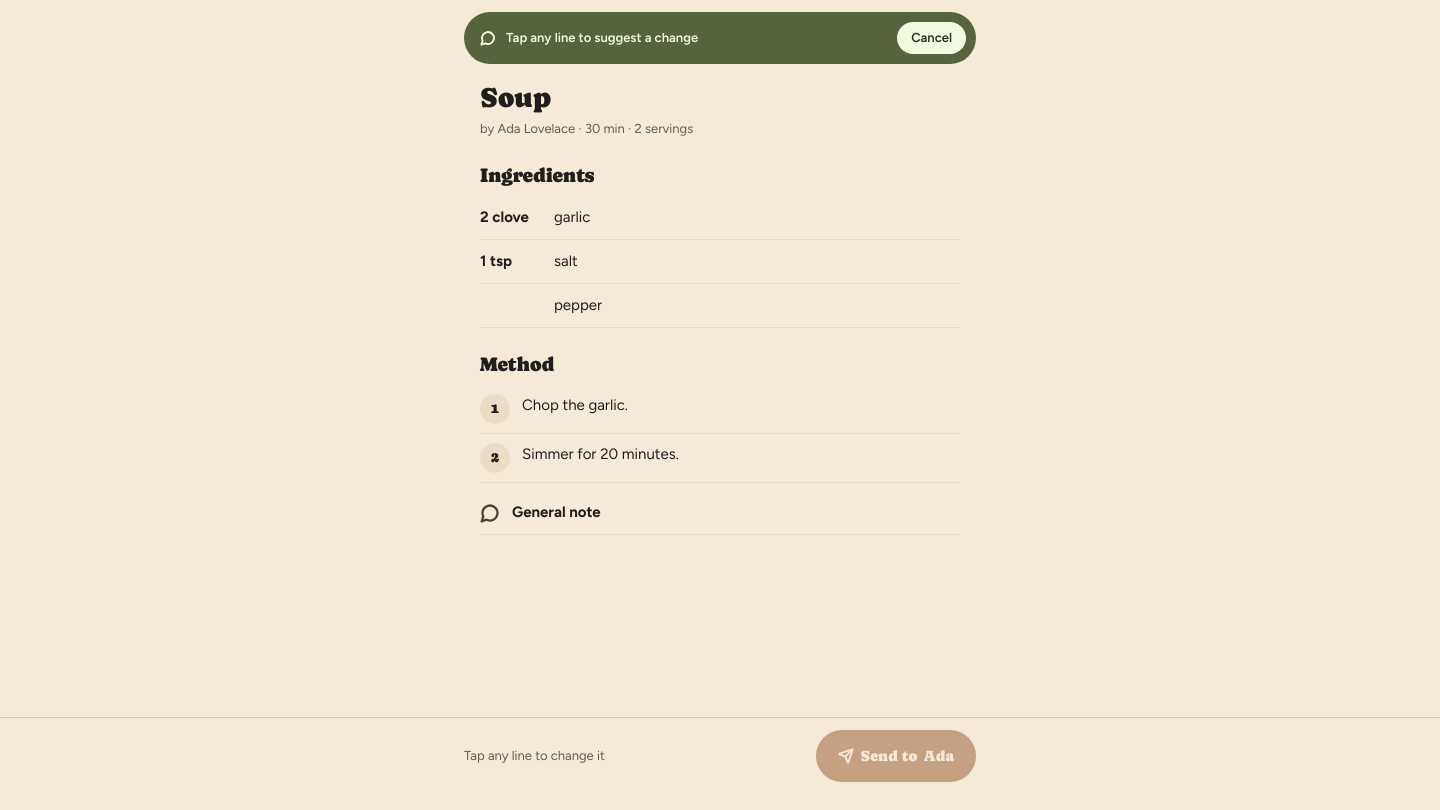
Test: SuggestMode › keeps the edits and shows the existing message when the send fails
The width and height of the screenshot is (1440, 810).
Click the button "2 clove garlic".
click(504, 217)  # box [480, 196, 960, 240]
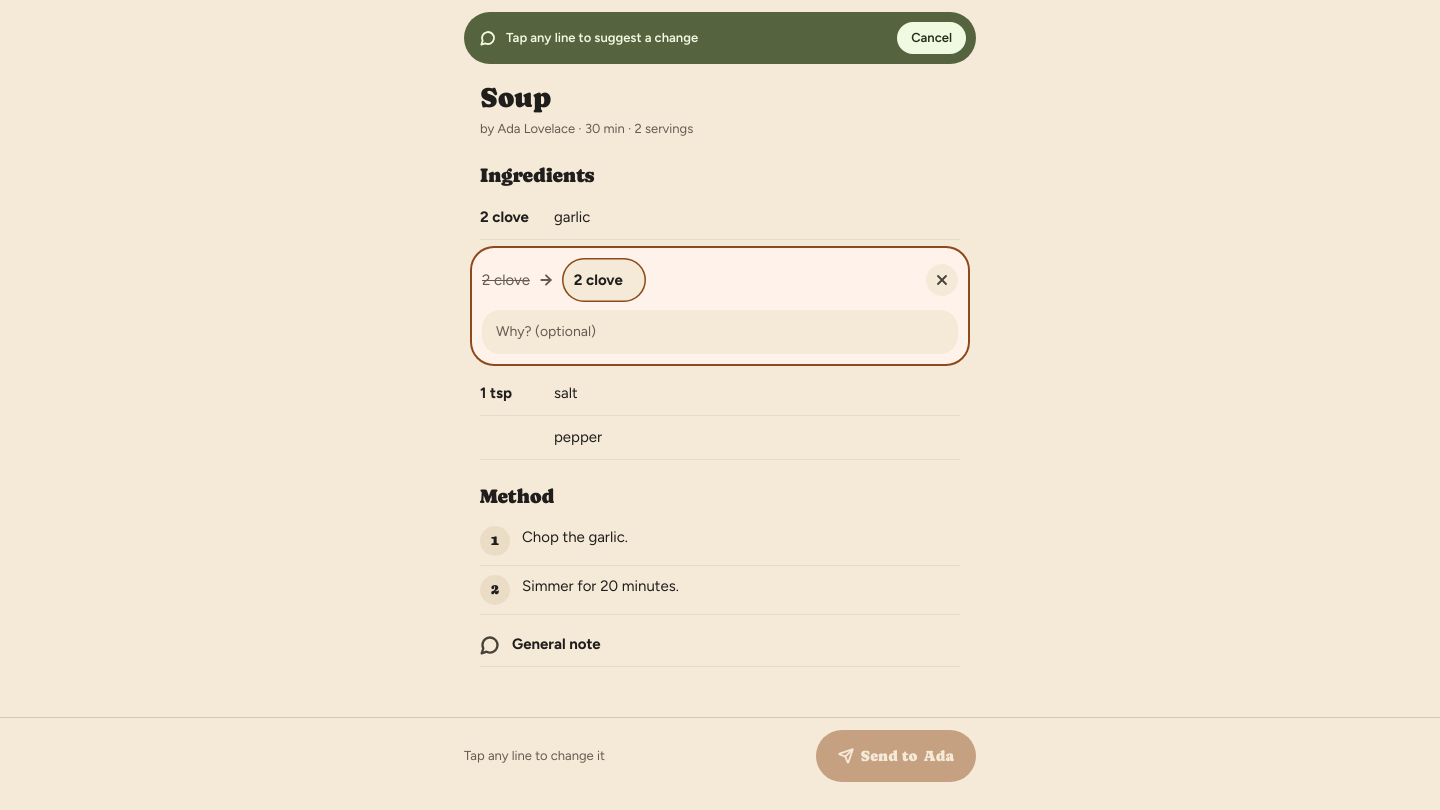
Replace the text in the field named "New amount" with "4 cloves" at (604, 280), box [562, 258, 646, 302]
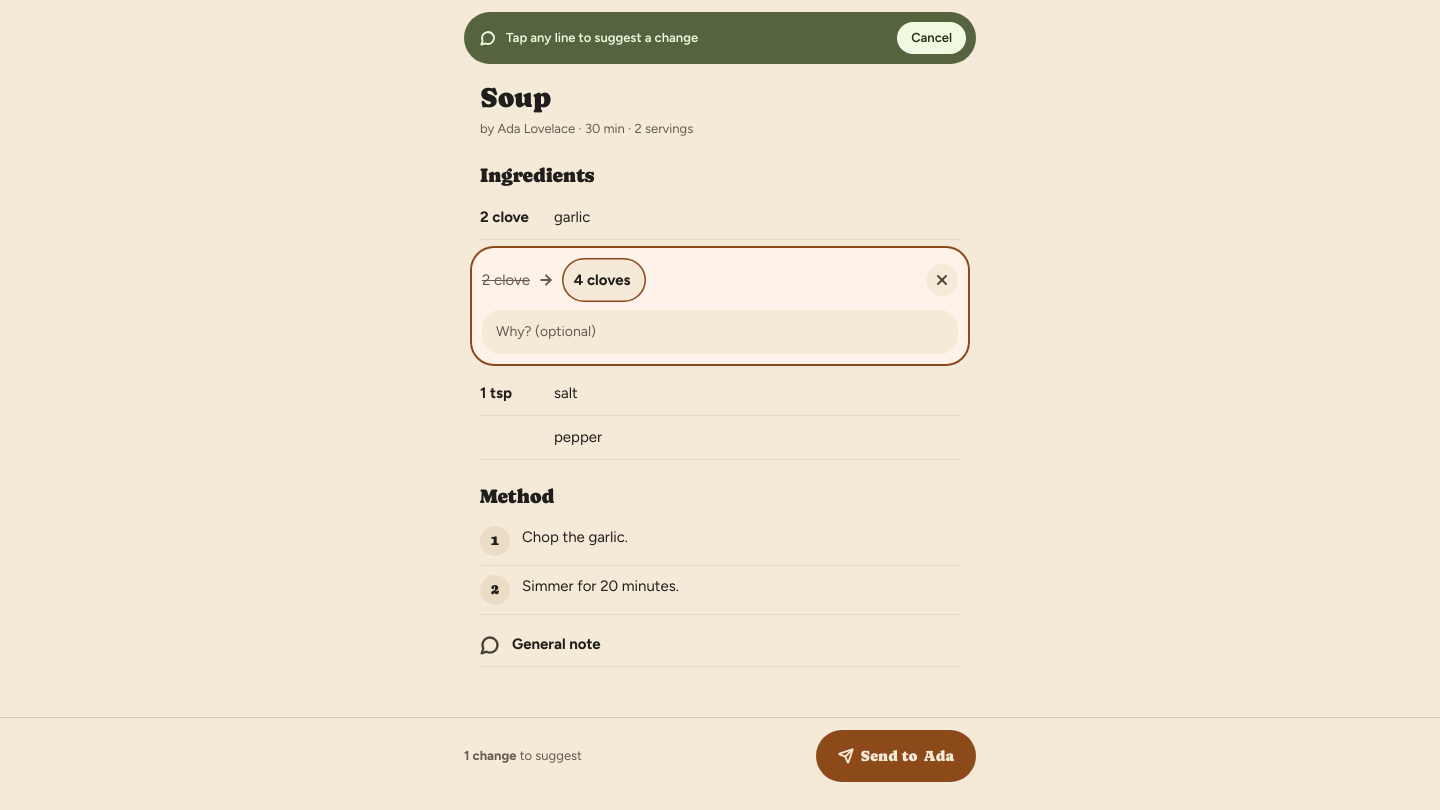
Click the button "Send to Ada".
click(896, 756)  # box [816, 730, 976, 782]
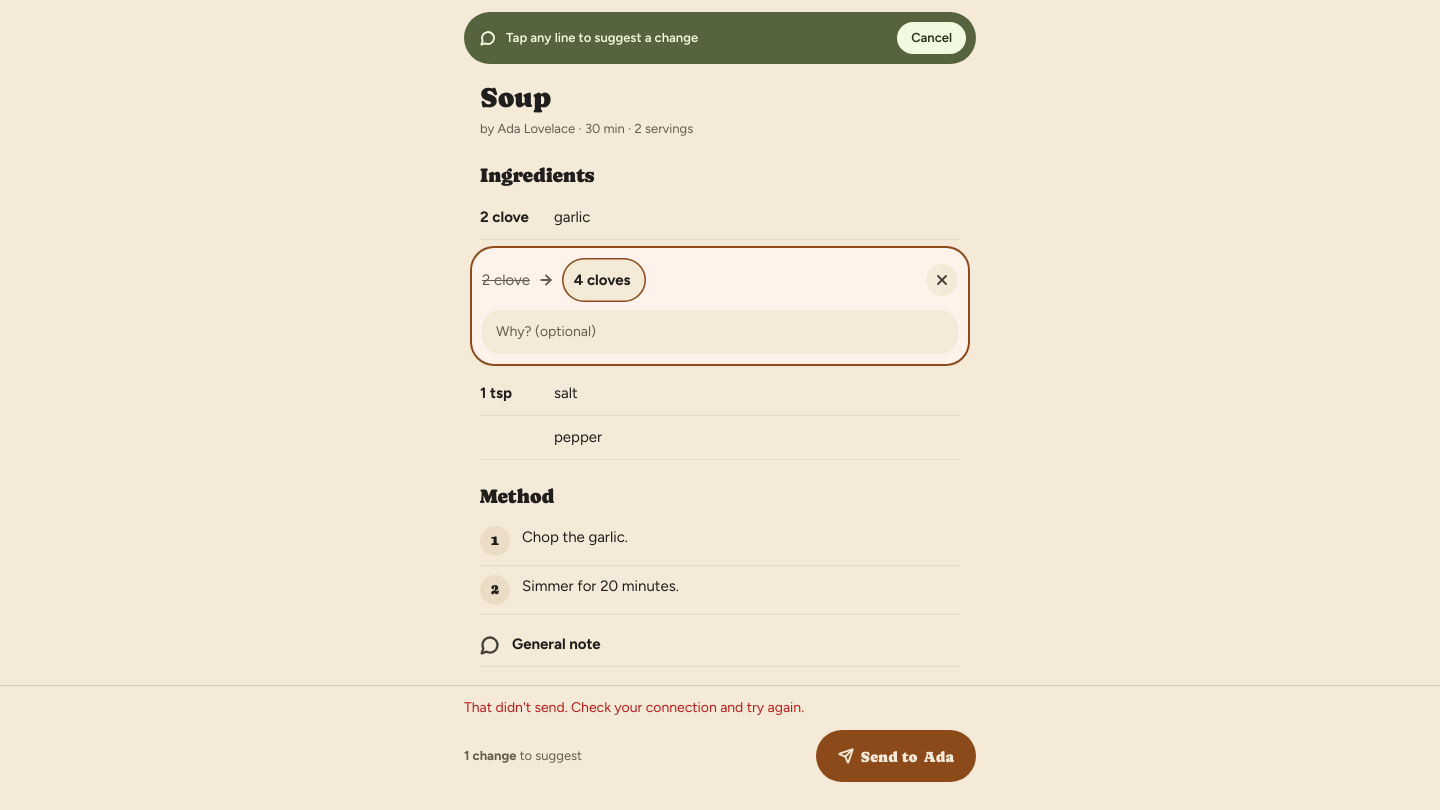
expect the button "Send to Ada" is enabled: met, box [816, 730, 976, 782]
expect the message reads "That didn't send. Check your connection and try again.": met, box [464, 699, 804, 716]
